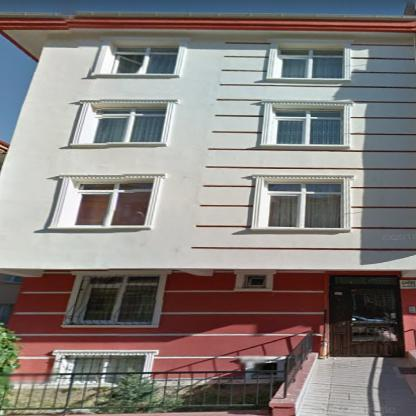door: (330, 276, 400, 356)
window: (77, 275, 158, 322), (67, 182, 152, 225), (263, 182, 342, 228), (87, 107, 166, 142), (269, 108, 342, 145), (66, 355, 144, 382), (276, 48, 344, 78), (109, 47, 179, 73)
